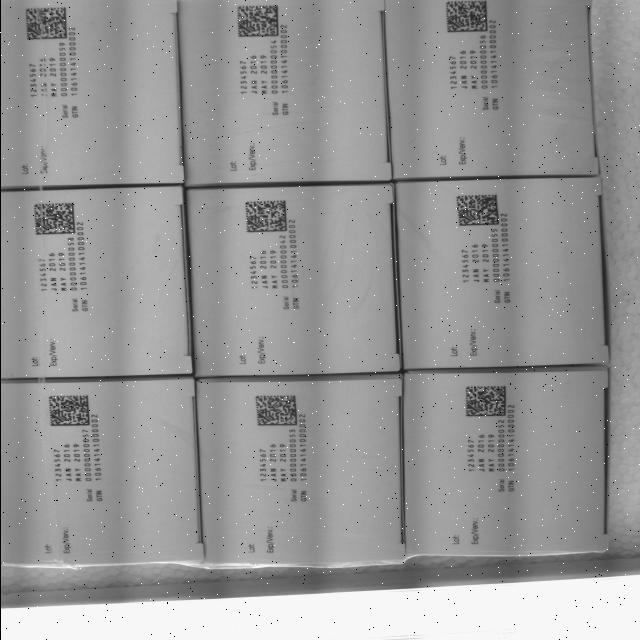datamatrix: (45, 392, 90, 427), (242, 199, 287, 234), (454, 192, 499, 227), (461, 383, 506, 418), (32, 201, 78, 235), (252, 393, 296, 428), (442, 0, 488, 33), (22, 7, 66, 41), (236, 4, 280, 38)
